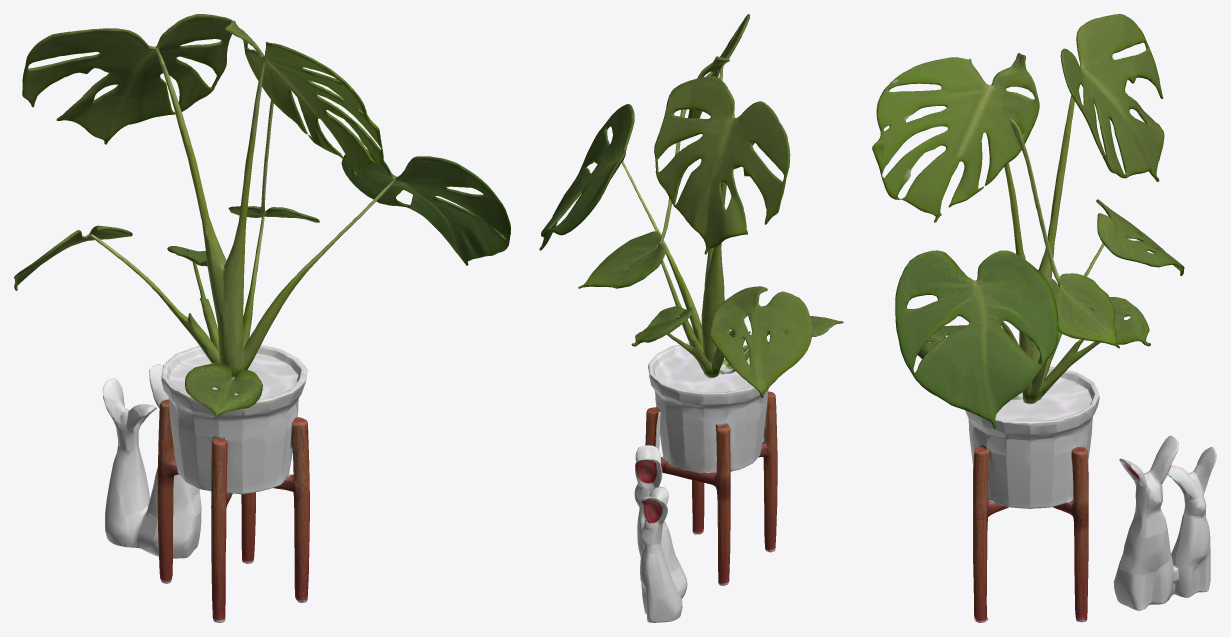
Rendered from plant.glb.
3 renders of one model, left to right at view 1: azimuth 30°, elevation 25°; view 2: azimuth 150°, elevation 25°; view 3: azimuth 270°, elevation 25°, orthographic. The views are drawn at different scales.
Visible parts, largest first — view 1: tripo_node_ecd0ba78-8811-436d-882e-462bca7e454e; view 2: tripo_node_ecd0ba78-8811-436d-882e-462bca7e454e; view 3: tripo_node_ecd0ba78-8811-436d-882e-462bca7e454e.
Boxes of the visible parts, box(x1,y1,x2,y2) form: tripo_node_ecd0ba78-8811-436d-882e-462bca7e454e: box(14, 14, 510, 622); tripo_node_ecd0ba78-8811-436d-882e-462bca7e454e: box(539, 14, 843, 622); tripo_node_ecd0ba78-8811-436d-882e-462bca7e454e: box(872, 14, 1216, 622).
Size of the model in its own units: 0.6939 by 0.9998 by 0.5715.
1 material, 1 textured.
